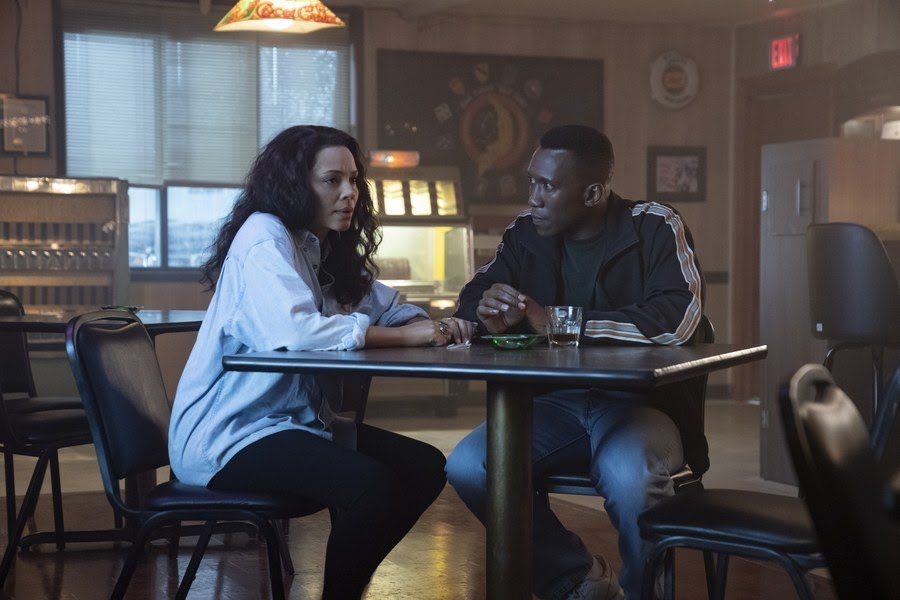person: (181, 120, 425, 502), (453, 121, 692, 492)
